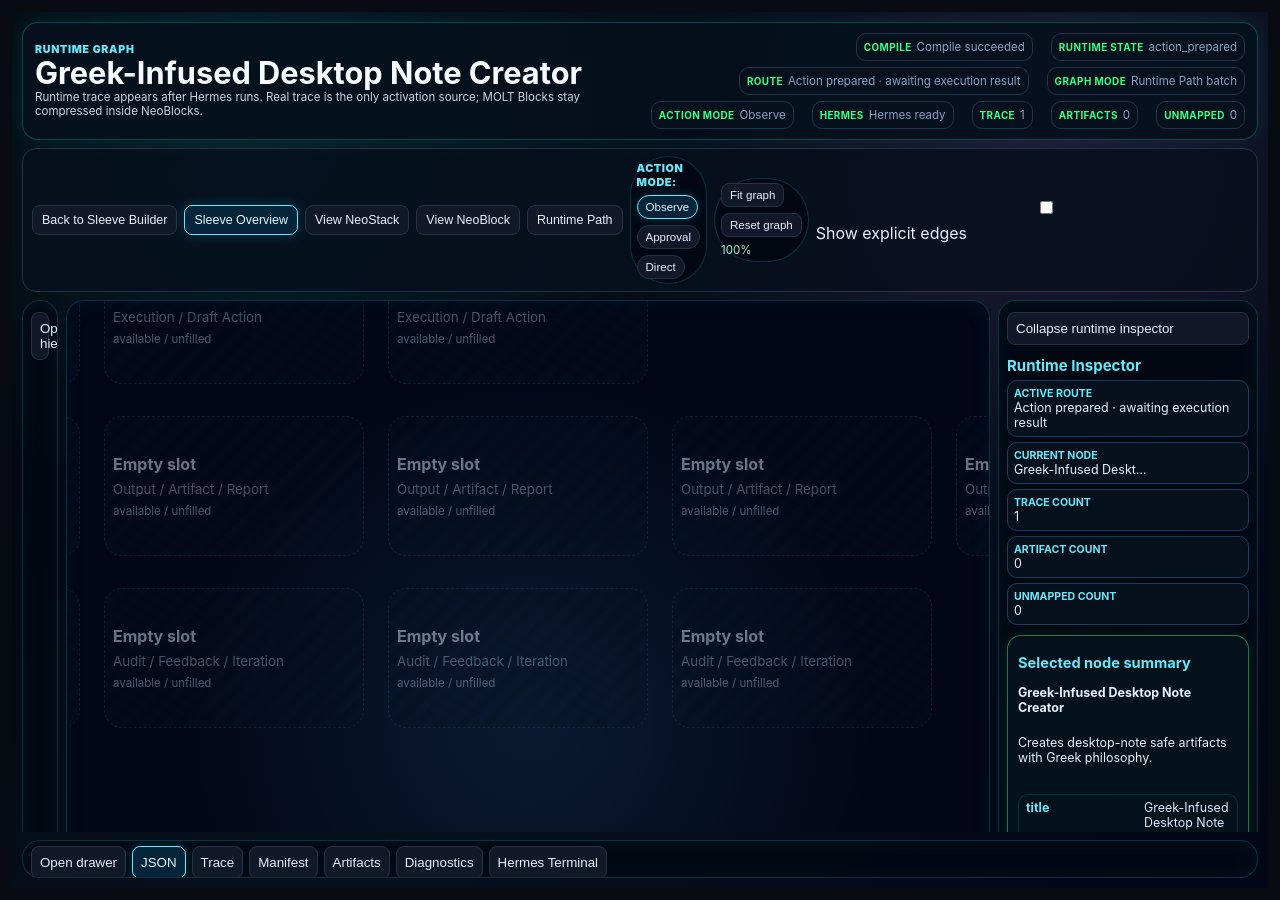
Test: RuntimeGeometryObserver › Graph trace remains separate from drawer chat transcript messages
The width and height of the screenshot is (1280, 900).
What coordinates should you click on to do the following:
click the button "Hermes Terminal"
I would click on:
 (548, 862)
Its box is [489, 846, 607, 879].
(page scrolled)
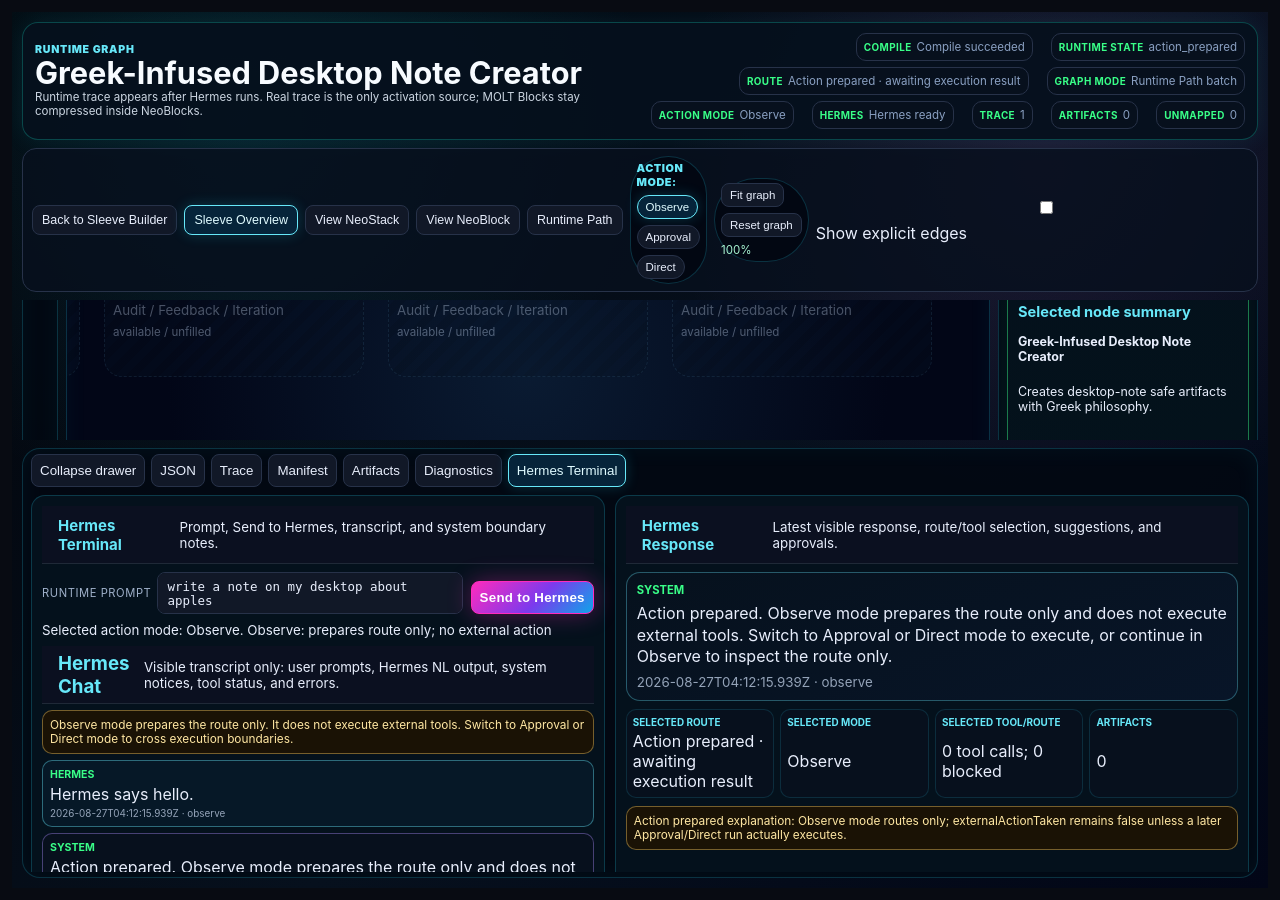
Expected: the field labelled "Runtime graph surface" does not show "Hermes says hello."
Expected: the element labelled "Hermes Chat" shows "Hermes says hello.", [50, 784, 194, 804]
